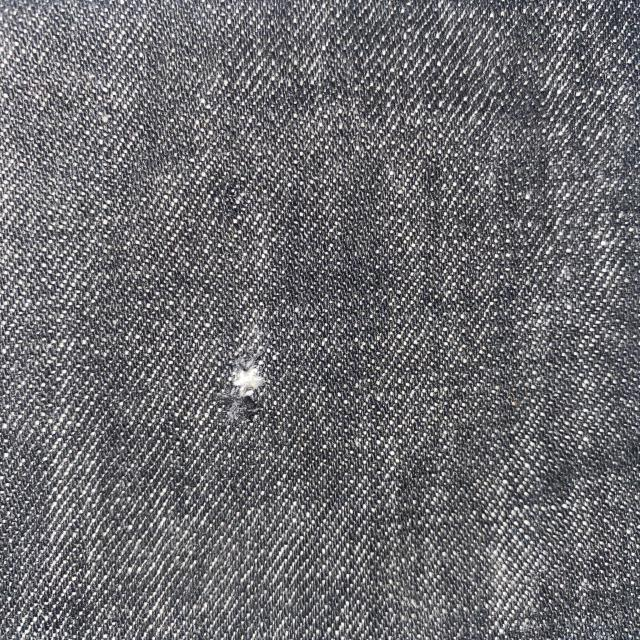Knot: (229, 352, 270, 419)
